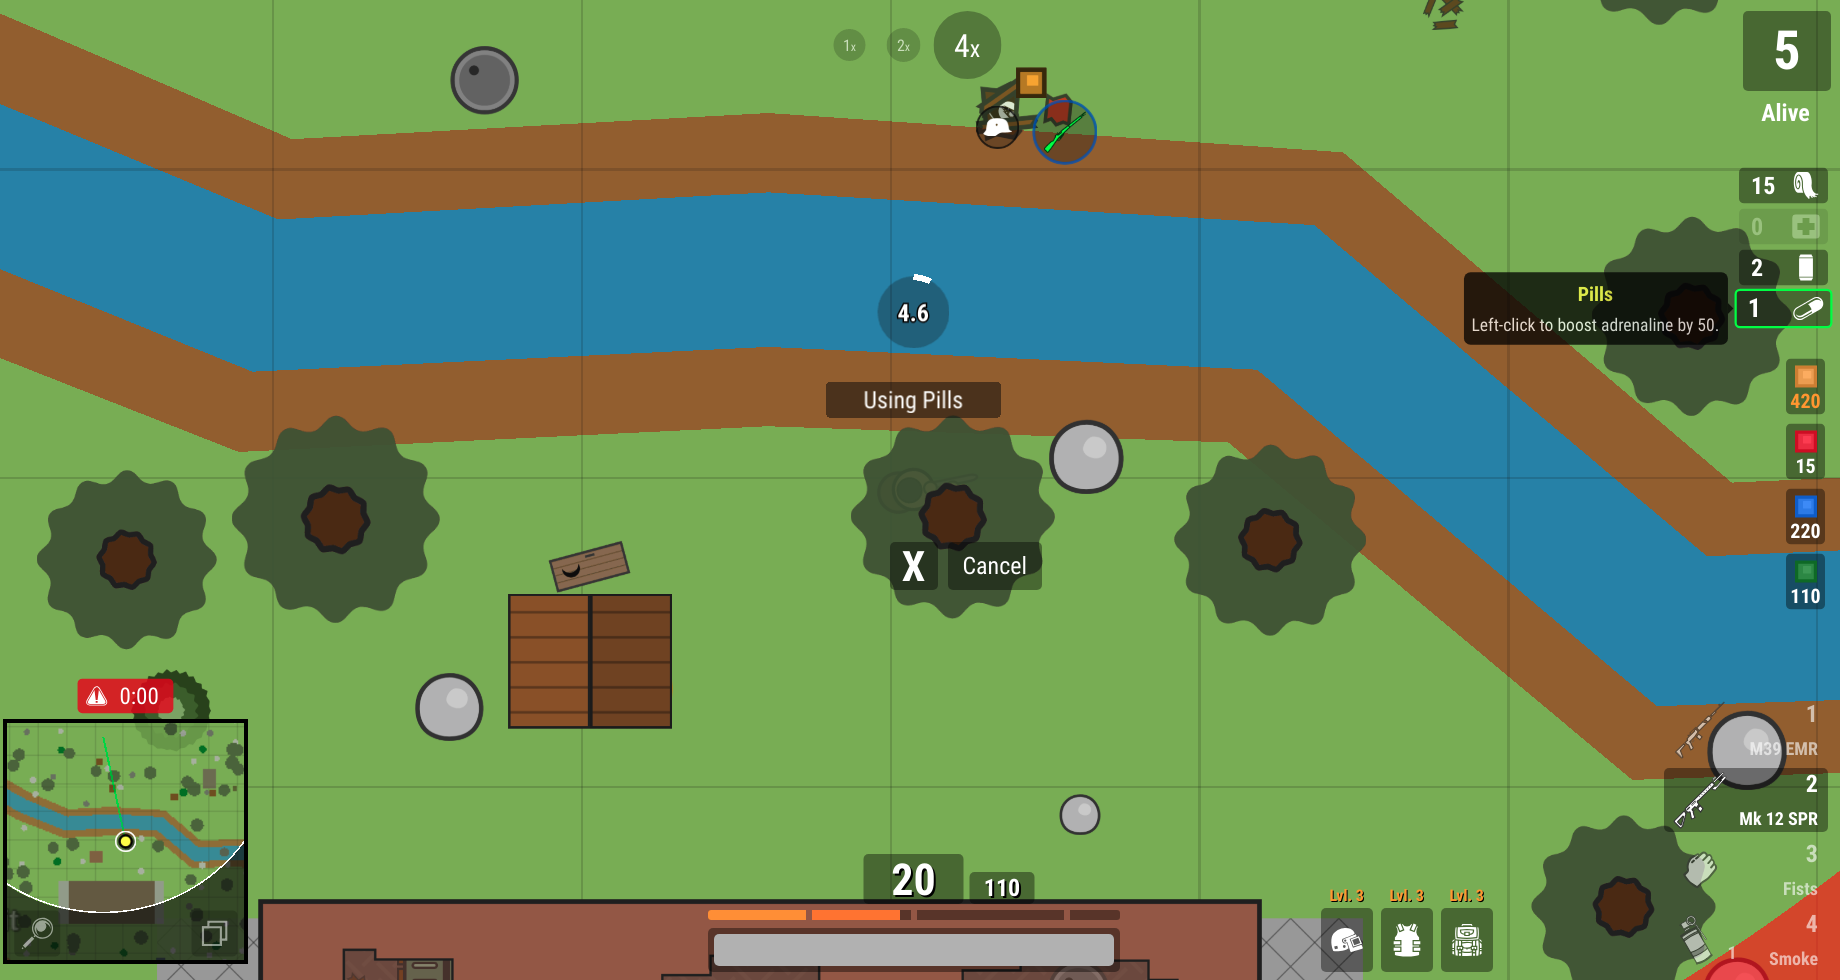Player: (855, 443, 998, 515)
